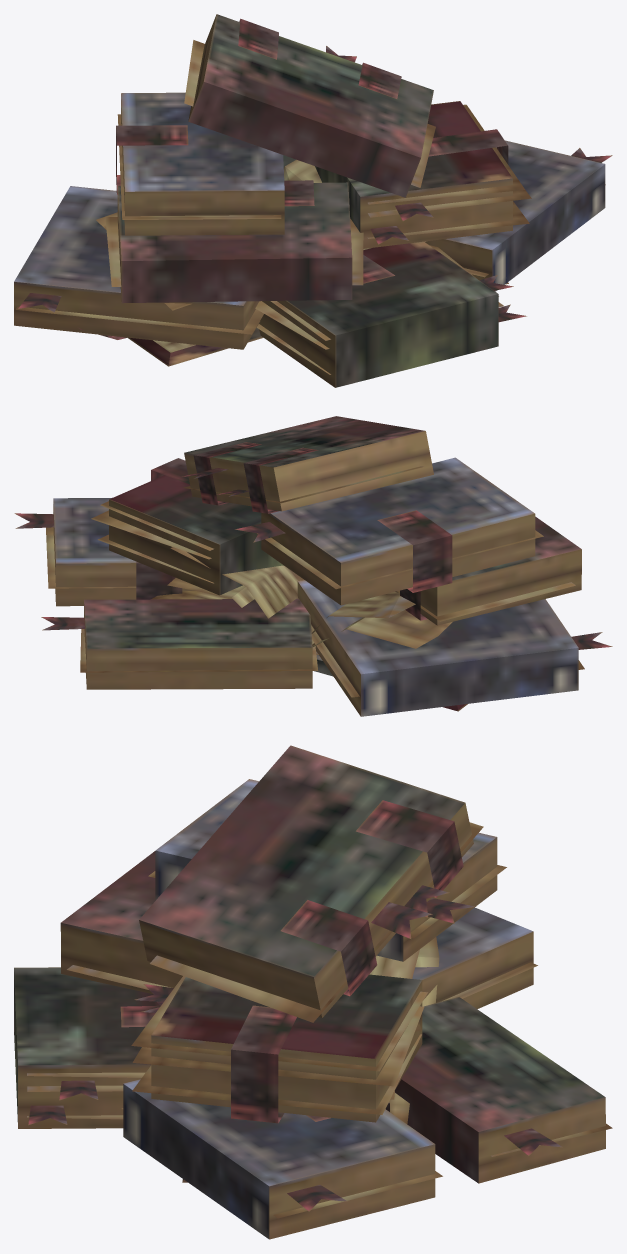
The model's file is bfcs_book_01.FBX.
3 views of the same model, one above another, from view 1: azimuth 30°, elevation 25°; view 2: azimuth 150°, elevation 25°; view 3: azimuth 270°, elevation 25° (orthographic). The views are drawn at different scales.
Visible parts, largest first — view 1: bfcs_book_01; view 2: bfcs_book_01; view 3: bfcs_book_01.
Part boxes in pixels (box(x1,y1,x2,y2)): bfcs_book_01: box(14, 14, 612, 387); bfcs_book_01: box(14, 416, 612, 716); bfcs_book_01: box(14, 745, 612, 1239).
Size of the model in its own units: 51.11 by 18.77 by 36.04.
